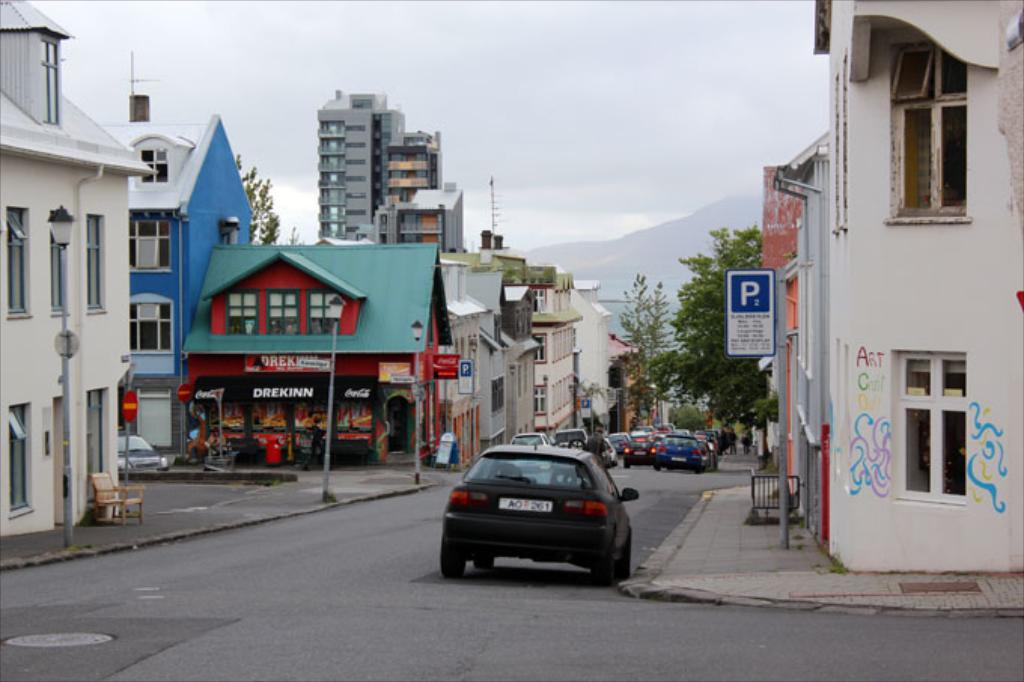Car: (441, 445, 643, 579), (120, 429, 173, 477), (658, 436, 701, 474), (629, 436, 655, 463), (551, 432, 585, 450), (512, 433, 543, 445)
